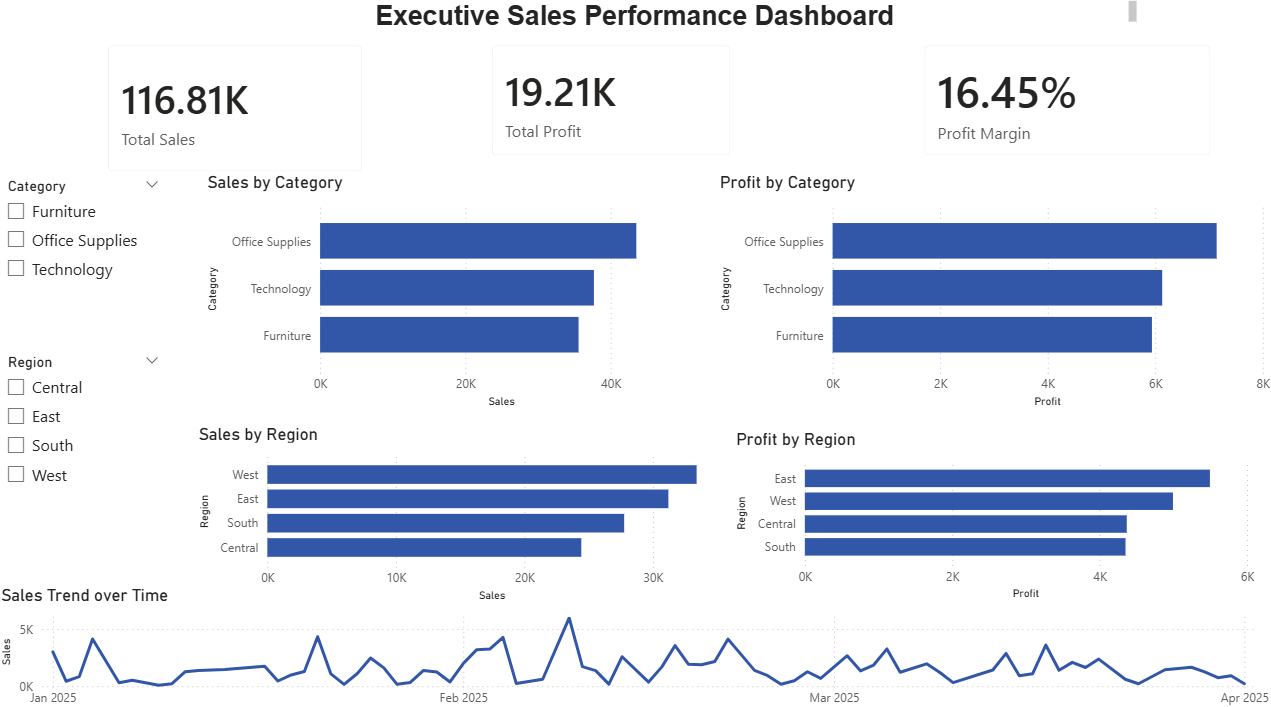

This screenshot's page, from the dashboard's own definition file:
{"tool":"powerbi","page":{"name":"Page 1","canvas":[1280,720],"ordinal":0},"visuals":[{"type":"cardVisual","fields":{"Data":["Sum(SalesData.Sales)"]},"box":[96,32,288,160],"z":0},{"type":"cardVisual","fields":{"Data":["Sum(SalesData.Profit)"]},"box":[480,32,272,144],"z":1000},{"type":"clusteredBarChart","title":"Sales by Category","fields":{"Category":["SalesData.Category"],"Y":["Sum(SalesData.Sales)"]},"box":[208,176,496,240],"z":2000},{"type":"clusteredBarChart","title":"Profit by Category","fields":{"Category":["SalesData.Category"],"Y":["Sum(SalesData.Profit)"]},"box":[720,176,560,240],"z":3000},{"type":"lineChart","title":"Sales Trend over Time","fields":{"Category":["SalesData.Order_Date"],"Y":["Sum(SalesData.Sales)"]},"box":[1.7,588.3,1278.3,131.7],"z":4000},{"type":"cardVisual","fields":{"Data":["SalesData.Profit Margin"]},"box":[912,32,320,144],"z":5000},{"type":"clusteredBarChart","title":"Sales by Region","fields":{"Category":["SalesData.Region"],"Y":["Sum(SalesData.Sales)"]},"box":[198.6,427.1,538.6,182.9],"z":6000},{"type":"clusteredBarChart","title":"Profit by Region","fields":{"Category":["SalesData.Region"],"Y":["Sum(SalesData.Profit)"]},"box":[736,432,528,176],"z":7000},{"type":"slicer","fields":{"Values":["SalesData.Category"]},"box":[0,176,176,144],"z":8000},{"type":"slicer","fields":{"Values":["SalesData.Region"]},"box":[0,352,176,160],"z":9000},{"type":"textbox","box":[140,0,1006.7,35],"z":10000}]}

Visuals, with their boxes in screenshot pixels (x1, y1, x2, y2), scaled from the page's 1280x720 canvas onto the 1271x707 screenshot:
cardVisual - Sum(SalesData.Sales): l=95, t=31, r=381, b=189
cardVisual - Sum(SalesData.Profit): l=477, t=31, r=747, b=173
"Sales by Category" clusteredBarChart: l=207, t=173, r=699, b=408
"Profit by Category" clusteredBarChart: l=715, t=173, r=1270, b=408
"Sales Trend over Time" lineChart: l=2, t=578, r=1270, b=706
cardVisual - SalesData.Profit Margin: l=906, t=31, r=1223, b=173
"Sales by Region" clusteredBarChart: l=197, t=419, r=732, b=599
"Profit by Region" clusteredBarChart: l=731, t=424, r=1255, b=597
slicer - SalesData.Category: l=0, t=173, r=175, b=314
slicer - SalesData.Region: l=0, t=346, r=175, b=503
textbox: l=139, t=0, r=1139, b=34
